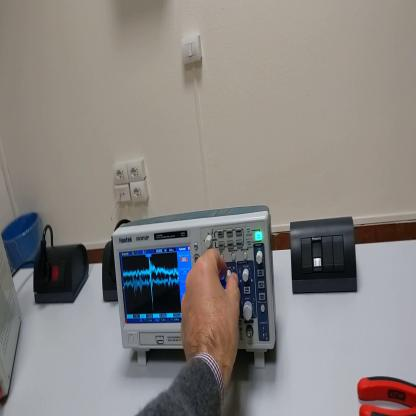hand: (180, 247, 241, 381)
oscilloscope: (113, 206, 277, 370)
pliers: (358, 376, 416, 416)
power supply: (2, 232, 23, 404)
socket: (33, 244, 91, 304), (99, 242, 119, 304)
